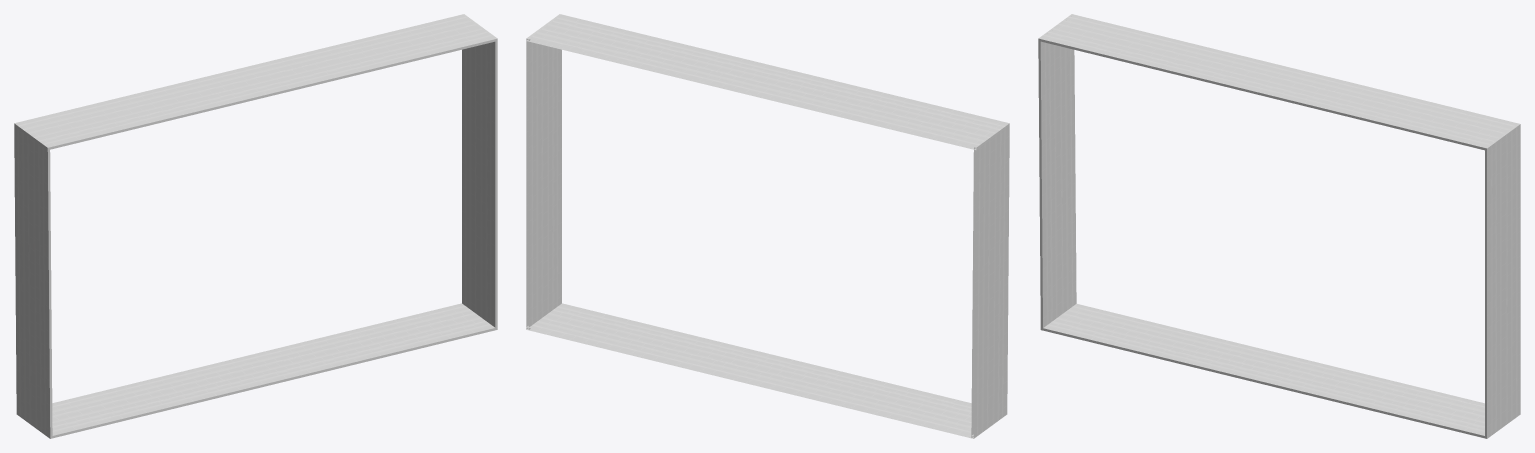
Rendered from wall_1.obj.
The picture shows the model from 3 angles, left to right: view 1: azimuth 30°, elevation 25°; view 2: azimuth 150°, elevation 25°; view 3: azimuth 330°, elevation 25°; orthographic projection.
Visible parts, largest first — view 1: walls; view 2: walls; view 3: walls.
Boxes of the visible parts, x1=… form: walls: x1=14, y1=14, x2=497, y2=438; walls: x1=526, y1=14, x2=1009, y2=438; walls: x1=1038, y1=14, x2=1520, y2=438.
Size of the model in its own units: 19.34 by 11.98 by 2.5.
